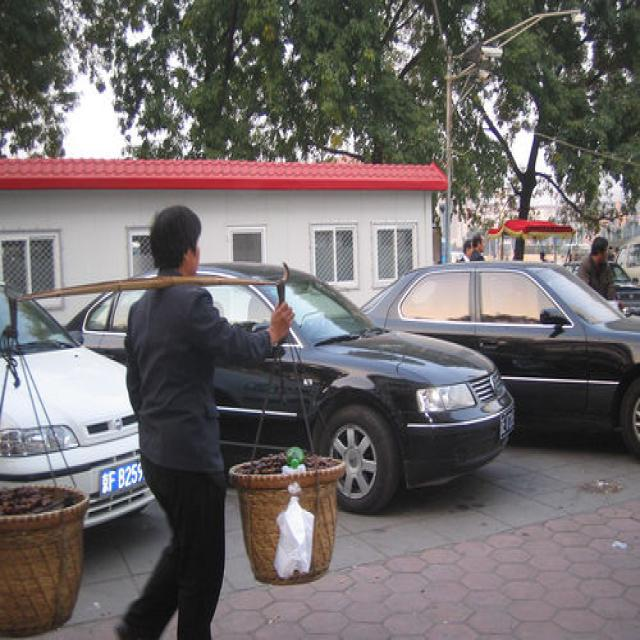light_vehicle: (62, 261, 514, 516), (357, 261, 639, 463), (0, 280, 156, 531)
